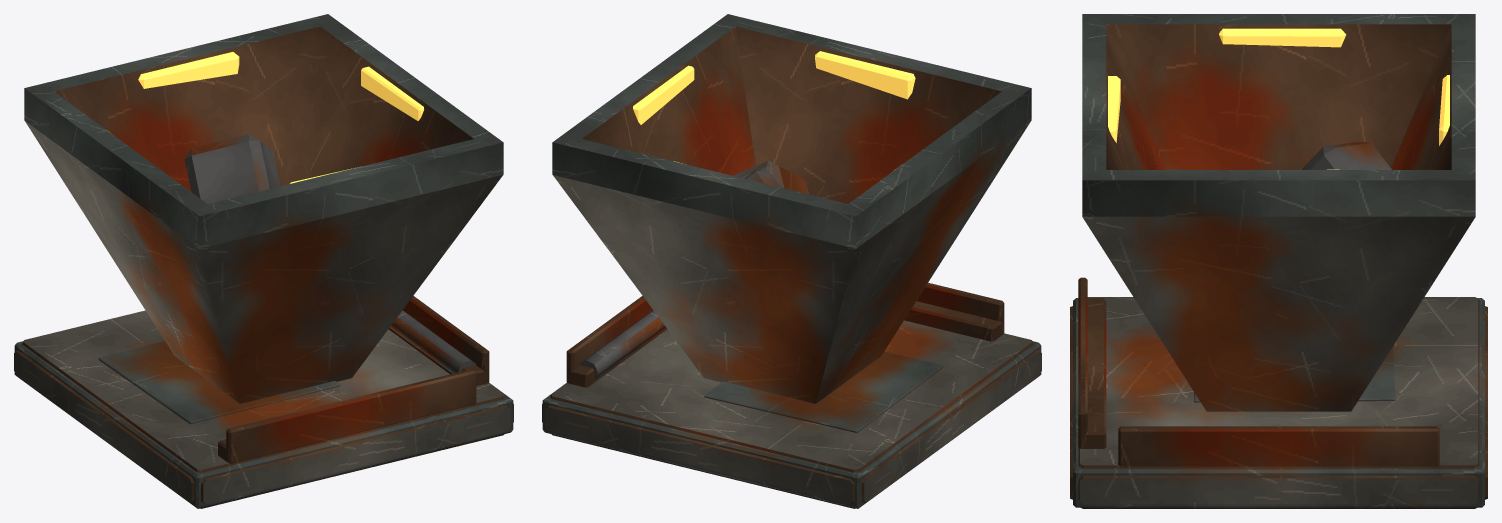
File: R4X_SalvageOptimizer.glb
3 views of the same model, side by side, from view 1: azimuth 30°, elevation 25°; view 2: azimuth 150°, elevation 25°; view 3: azimuth 270°, elevation 25° (orthographic). The views are drawn at different scales.
Parts seen in each view (by area): view 1: R4X_SalvageOptimizer_Body; view 2: R4X_SalvageOptimizer_Body; view 3: R4X_SalvageOptimizer_Body.
Boxes of the visible parts, x1,y1,x2,y2 form: R4X_SalvageOptimizer_Body: [14, 14, 513, 508]; R4X_SalvageOptimizer_Body: [542, 14, 1041, 508]; R4X_SalvageOptimizer_Body: [1070, 14, 1487, 508].
Size of the model in its own units: 0.52 by 0.45 by 0.52.
Materials: 5 (4 with a texture image).
